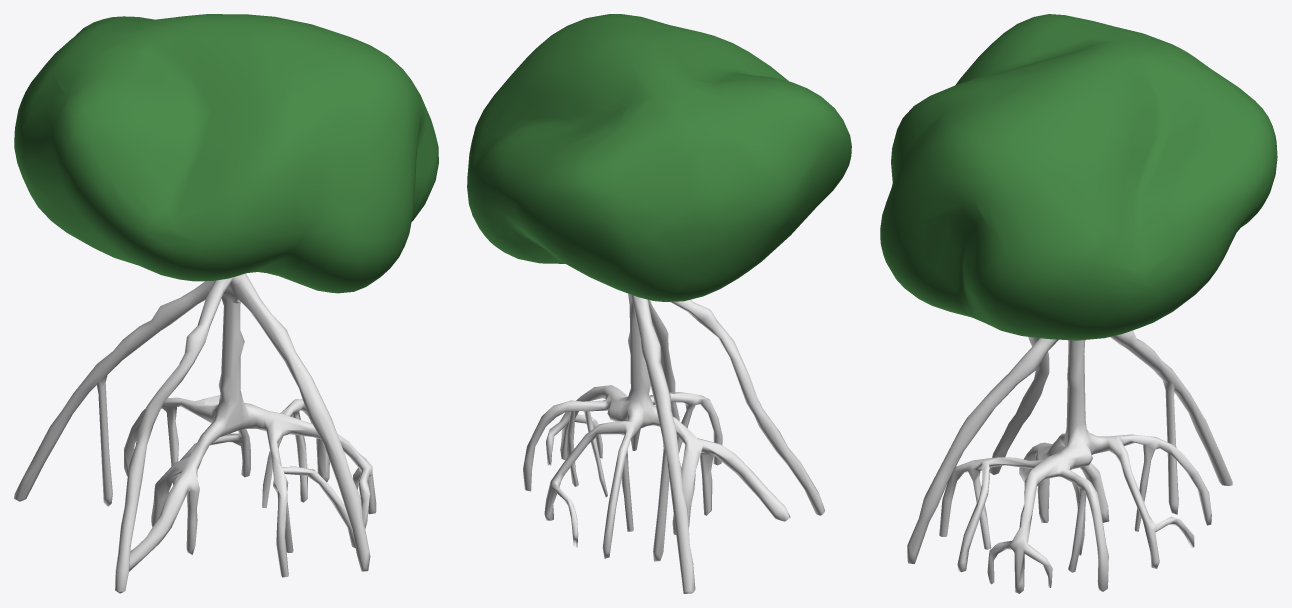
File: mangrove_tree_3.fbx
3 views of the same model, side by side, from view 1: azimuth 30°, elevation 25°; view 2: azimuth 150°, elevation 25°; view 3: azimuth 270°, elevation 25° (orthographic). The views are drawn at different scales.
Visible parts, largest first — view 1: tree_3_lo1; view 2: tree_3_lo1; view 3: tree_3_lo1.
Part boxes in pixels (box(x1,y1,x2,y2)): tree_3_lo1: box(14, 14, 438, 593); tree_3_lo1: box(467, 14, 851, 593); tree_3_lo1: box(880, 14, 1277, 593).
Size of the model in its own units: 241 by 311 by 232.
